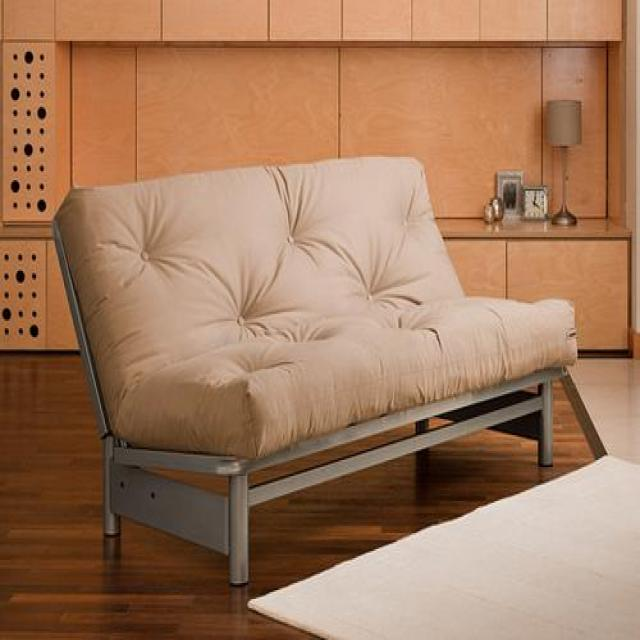sofa: (50, 152, 578, 584)
